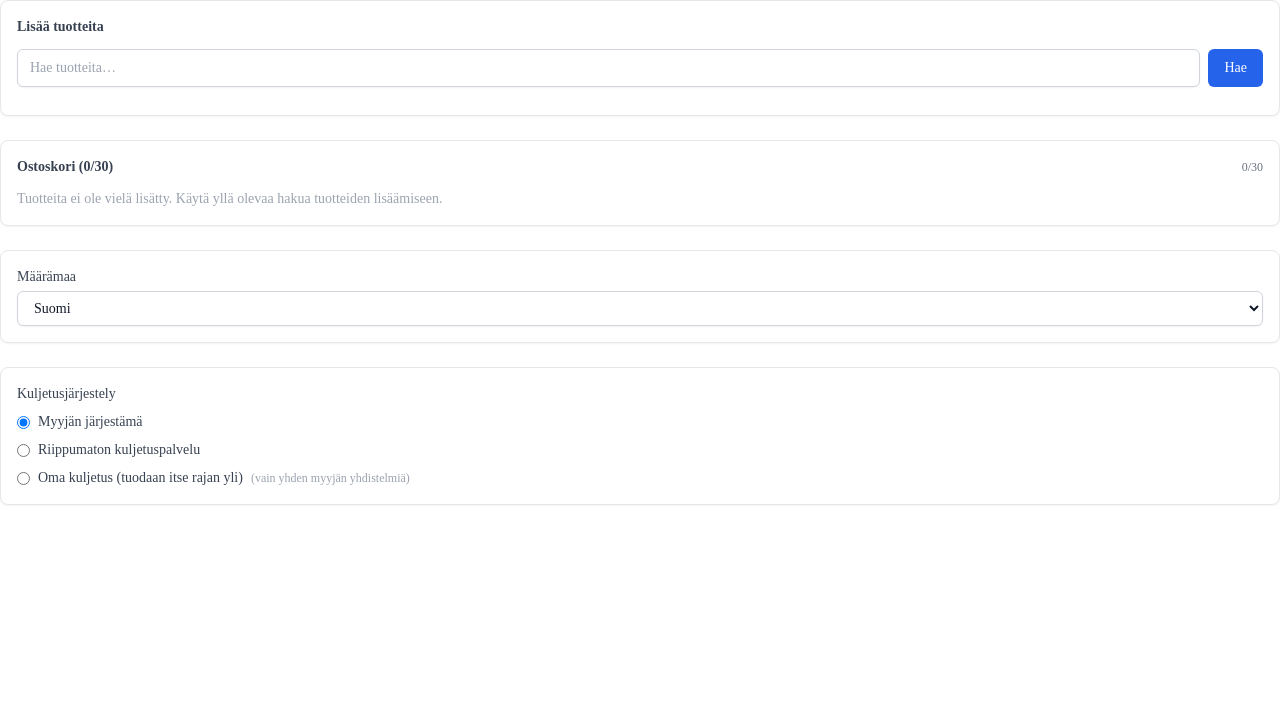
BasketBuilder attribute row (fi-locale-surface-hardening 2.6) › renders the result row without a leading separator when the brand is empty
In the field with placeholder "Hae tuotteita…": (609, 68) top-left (17, 49), bottom-right (1200, 87), type "kotilo"
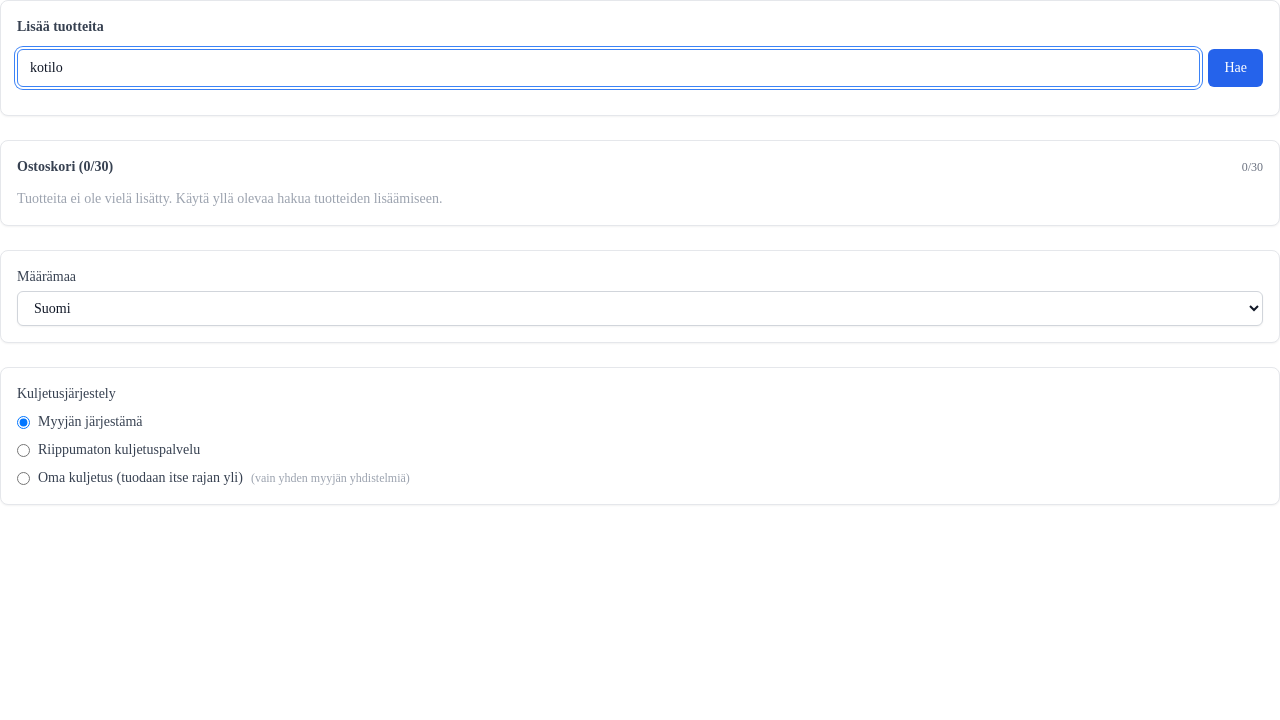
Click the button "Hae": (1236, 68) top-left (1208, 49), bottom-right (1263, 87)
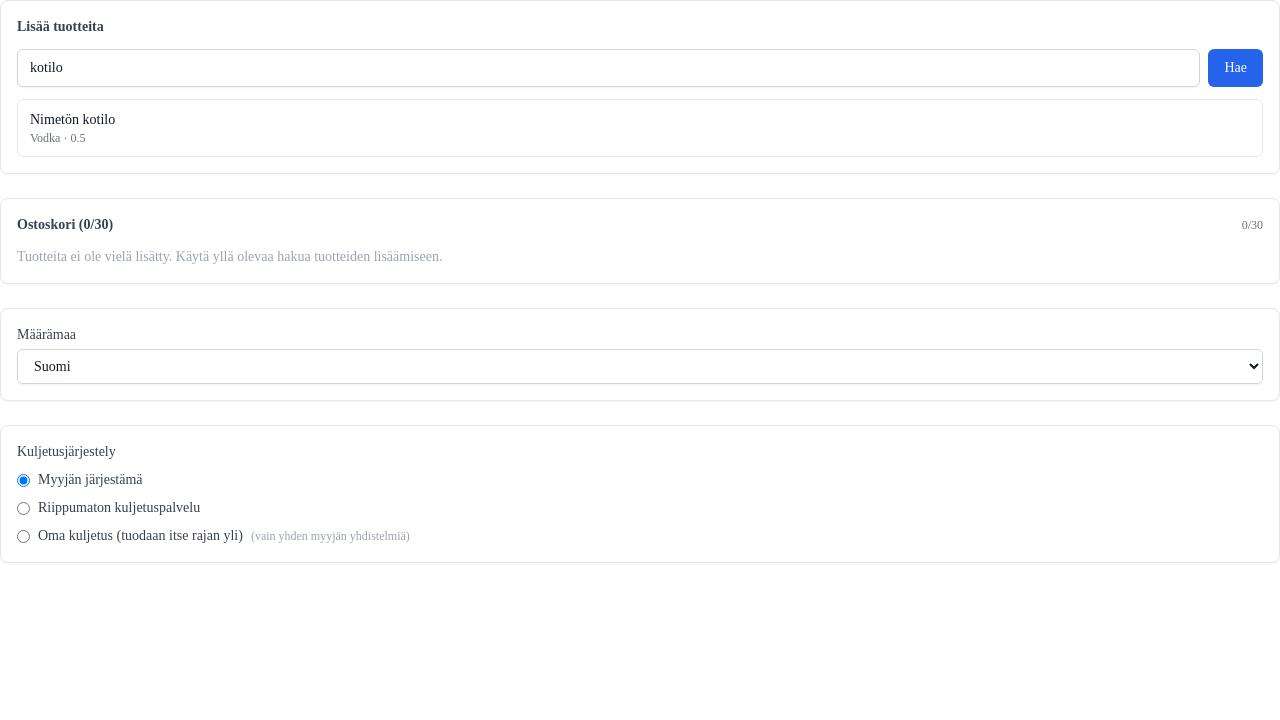
Expected: the text "Vodka · 0.5" is shown, top-left (30, 131), bottom-right (86, 145)
